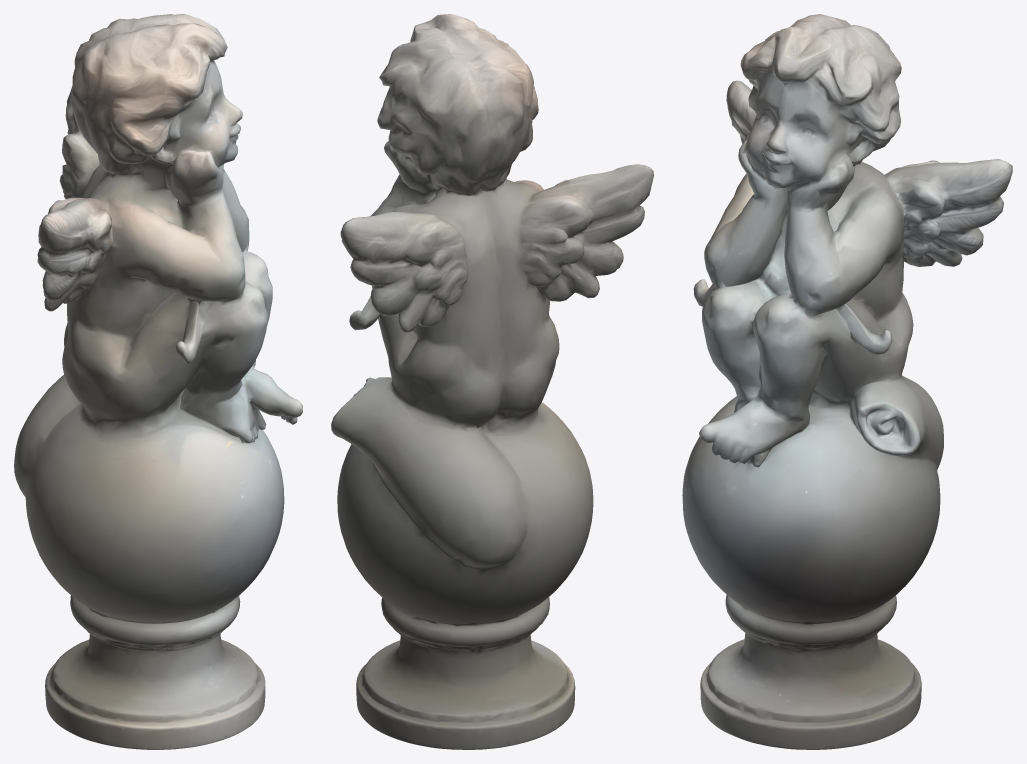
The model's file is cherub.glb.
3 views of the same model, side by side, from view 1: azimuth 30°, elevation 25°; view 2: azimuth 150°, elevation 25°; view 3: azimuth 270°, elevation 25° (orthographic).
Visible parts, largest first — view 1: tripo_node_a81f7b8d-ab27-4276-b3d0-72cec69bbe73; view 2: tripo_node_a81f7b8d-ab27-4276-b3d0-72cec69bbe73; view 3: tripo_node_a81f7b8d-ab27-4276-b3d0-72cec69bbe73.
Part boxes in pixels (x1,y1,x2,y2): tripo_node_a81f7b8d-ab27-4276-b3d0-72cec69bbe73: [14, 14, 302, 749]; tripo_node_a81f7b8d-ab27-4276-b3d0-72cec69bbe73: [331, 14, 653, 749]; tripo_node_a81f7b8d-ab27-4276-b3d0-72cec69bbe73: [682, 14, 1012, 749].
Size of the model in its own units: 0.4037 by 1 by 0.4368.
Materials: 1 (1 with a texture image).
